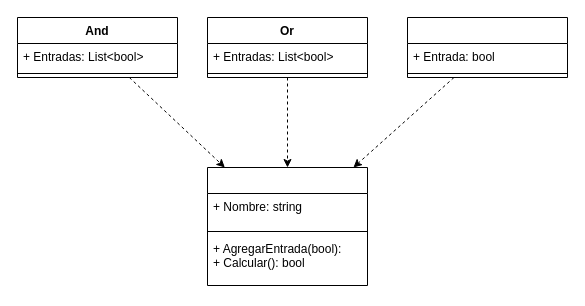
The diagram is 585 pixels wide and 306 high, and some of its shapes have lost their labels. The shapes that lost their labels are listed below. From the top down, each one's box as (x1, y1, x2, y2) in pixels, then its label:
(406, 16, 568, 78): Not
(206, 166, 368, 286): <Interface> ICompuerta
